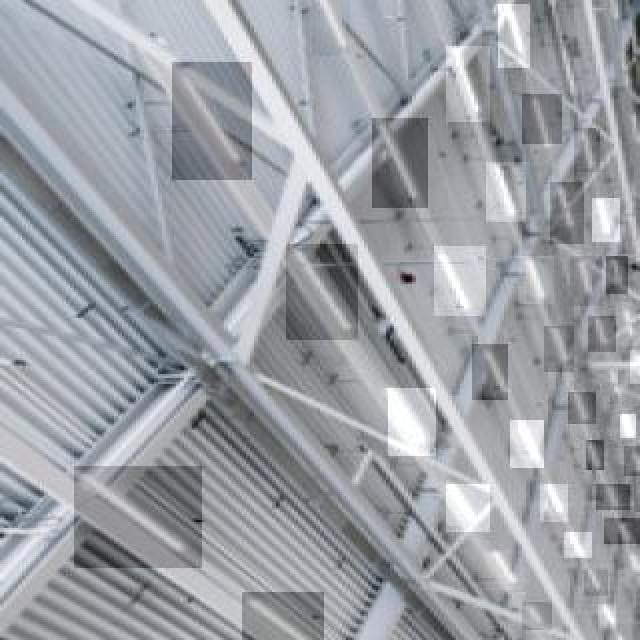fluorescent tube: (83, 478, 193, 564), (185, 71, 253, 194), (303, 240, 354, 360), (224, 588, 334, 640), (382, 371, 442, 464), (433, 238, 482, 320), (371, 118, 413, 211), (486, 153, 529, 227), (496, 0, 541, 68), (445, 45, 480, 120), (546, 184, 589, 240), (478, 335, 511, 407), (518, 251, 555, 309), (538, 329, 578, 382), (489, 536, 527, 589), (512, 596, 556, 640), (473, 345, 505, 400), (602, 518, 640, 548), (575, 380, 600, 425), (595, 489, 638, 515), (518, 422, 540, 465)
